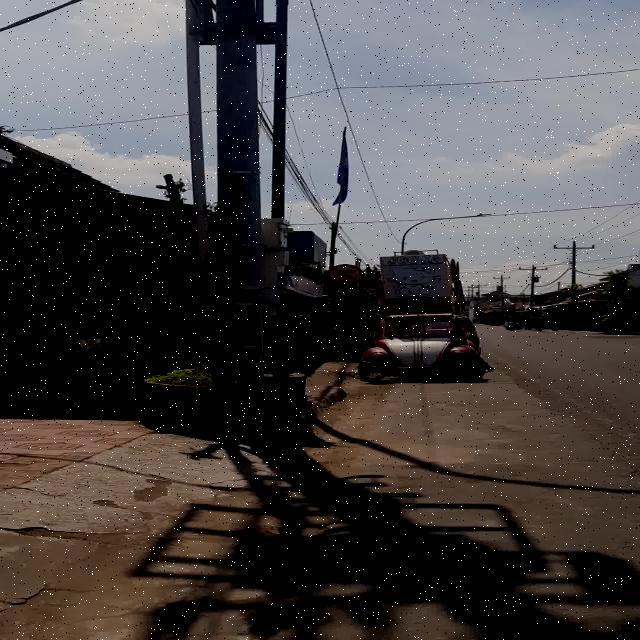Dilarang Belok Kanan: (327, 264, 363, 285)
